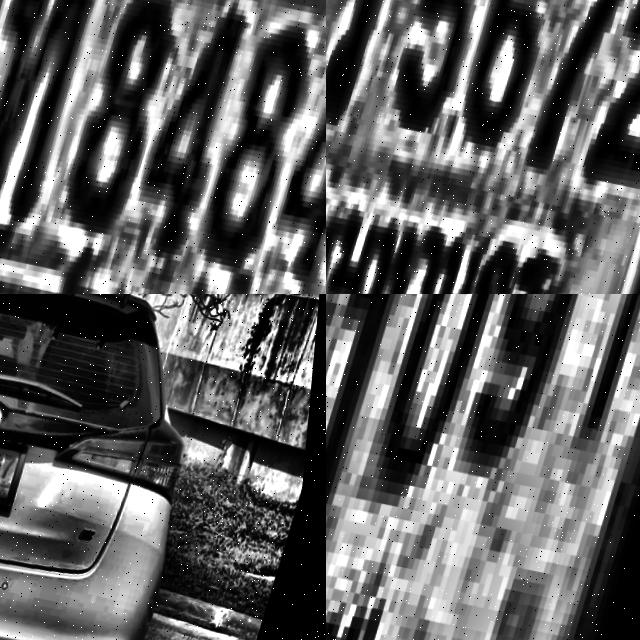license-plate: (326, 294, 640, 640), (0, 0, 326, 294), (326, 0, 640, 294), (0, 420, 38, 512)
